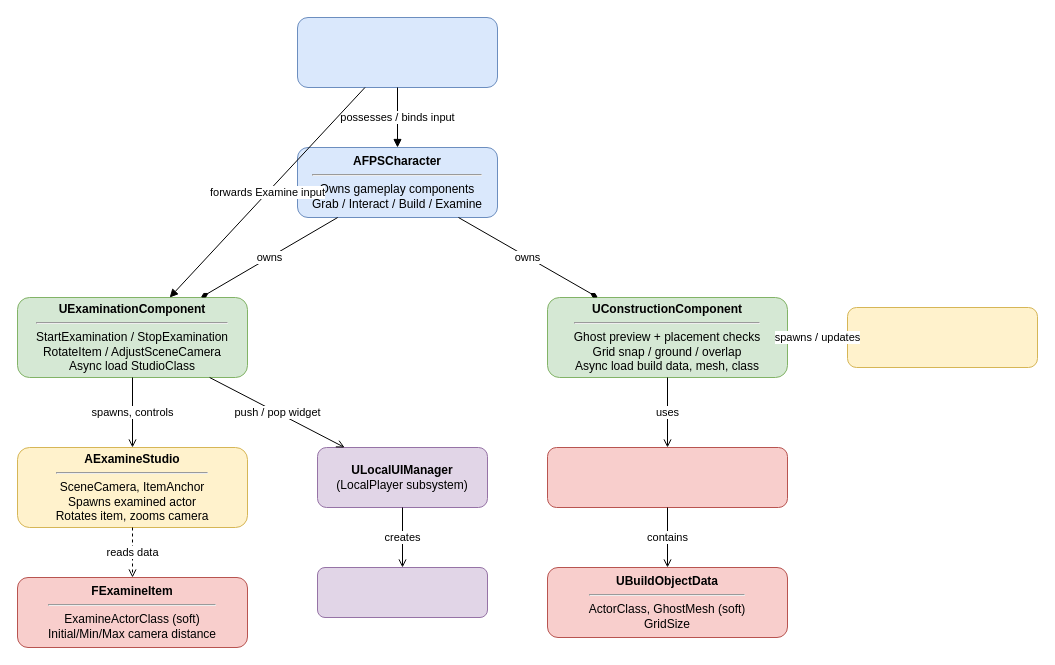
This 1055x665 diagram has some shape labels left out. The centre of each missing label's shape, as x and y in pixels:
"AFPSPlayerController Input Mapping Contexts Binds Input Actions" goes at (397,52).
"AStaticMeshActor (Ghost, hologram material)" goes at (942,337).
"UBuildLibraryData AllBuildings (soft refs)" goes at (667,477).
"UExaminationWidget" goes at (402,592).
